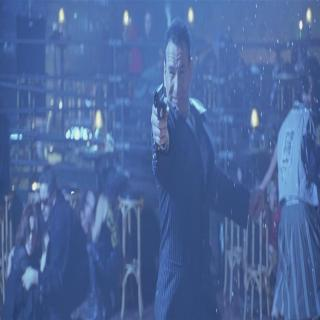gun: (151, 77, 167, 150)
